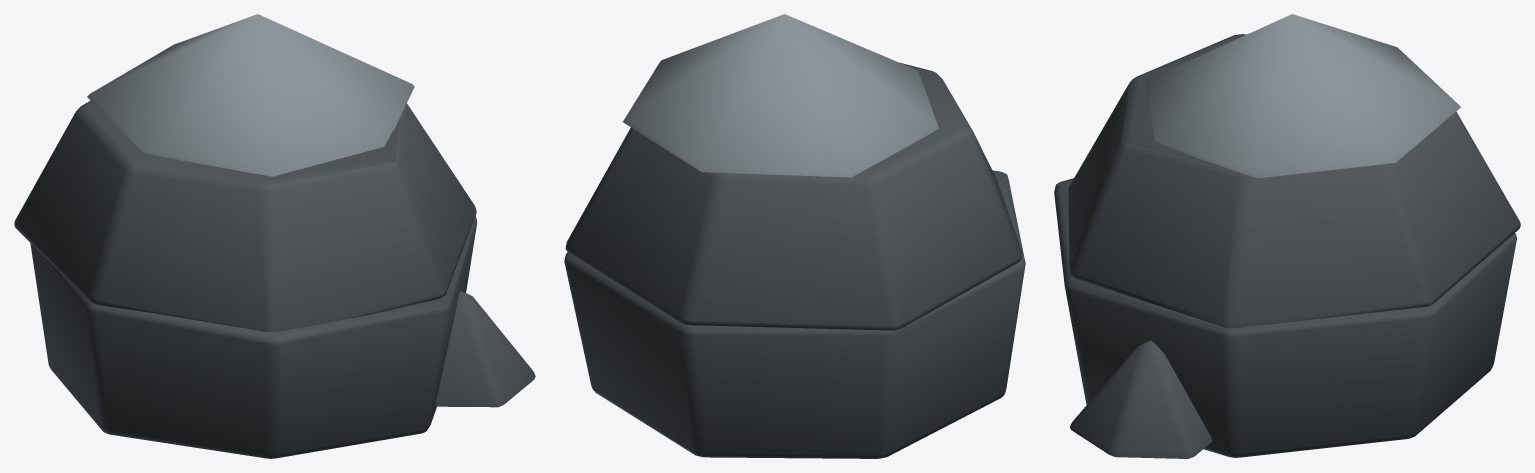
Rendered from boulder.glb.
The picture shows the model from 3 angles, left to right: view 1: azimuth 30°, elevation 25°; view 2: azimuth 150°, elevation 25°; view 3: azimuth 270°, elevation 25°; orthographic projection. The views are drawn at different scales.
Parts seen in each view (by area): view 1: boulder; view 2: boulder; view 3: boulder.
Part boxes in pixels (bbox=[...]): boulder: bbox=[14, 14, 535, 458]; boulder: bbox=[564, 14, 1025, 458]; boulder: bbox=[1054, 14, 1520, 458].
Size of the model in its own units: 3.27 by 2.89 by 3.32.
1 material, 1 textured.
